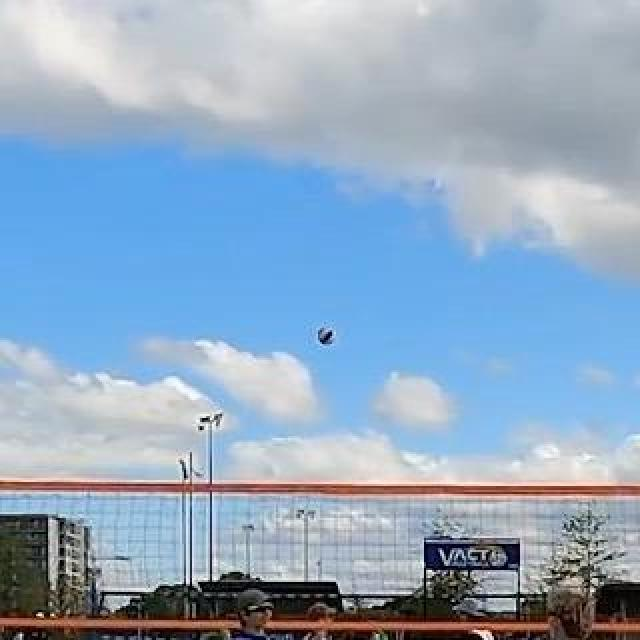volleyball: (317, 327, 335, 345)
